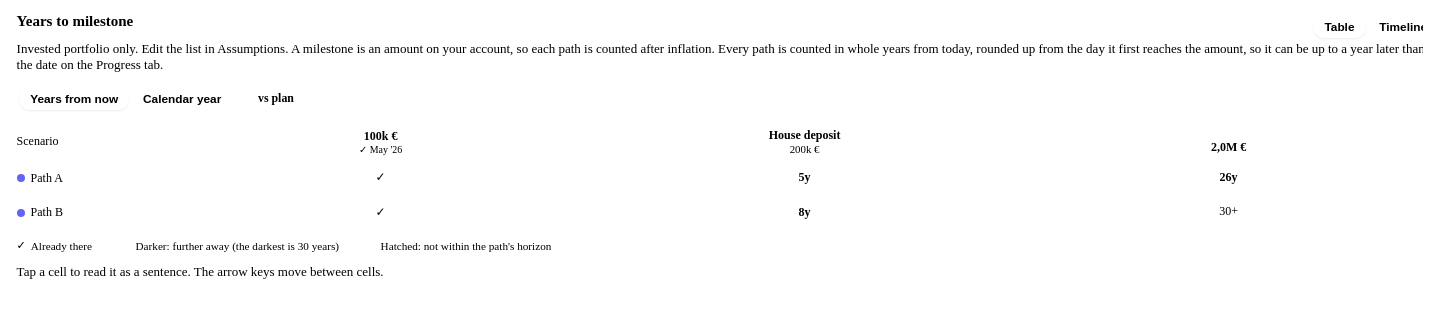
it: vs plan › is off to begin with, and shows how many years later or sooner each path is than the plan when pressed
What coordinates should you click on to do the following:
click the button "vs plan"
I would click on:
 (276, 99)
Its box is top-left (247, 87), bottom-right (305, 110).
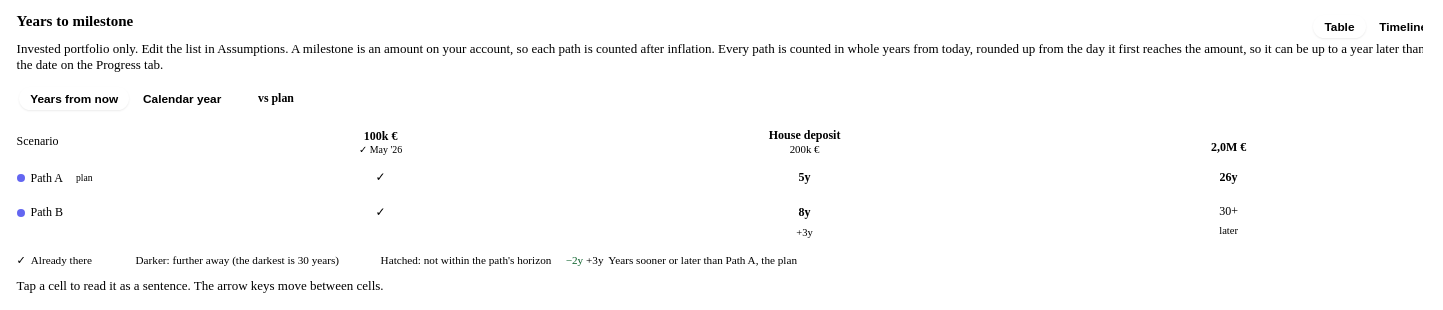
Expected: the text "+3y" is shown, top-left (796, 227), bottom-right (813, 238)
Expected: the list item "−2y +3y Years sooner or later than Path A, the plan" is shown, top-left (566, 254), bottom-right (797, 267)
